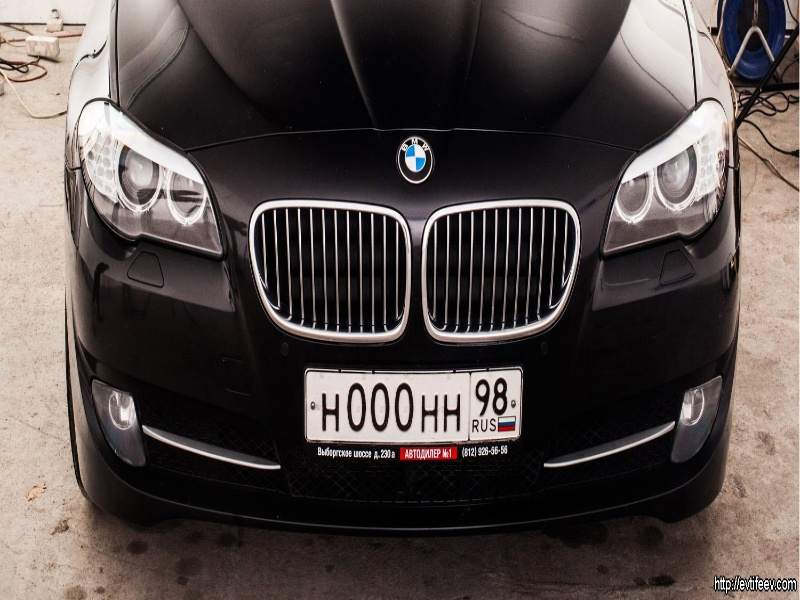car: (62, 1, 742, 531)
plate: (304, 367, 522, 441)
